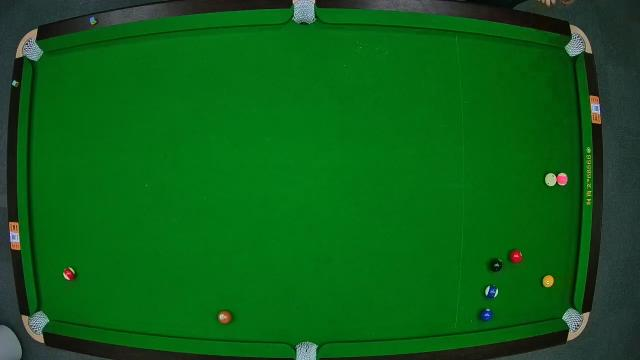bag1: (20, 40, 42, 62)
bag2: (292, 2, 316, 26)
bag3: (566, 36, 586, 58)
bag4: (29, 311, 49, 333)
bag5: (295, 340, 319, 360)
bag6: (562, 308, 582, 330)
ball0: (544, 174, 558, 187)
ball1: (540, 272, 556, 288)
ball10: (484, 284, 500, 300)
ball11: (62, 266, 76, 282)
ball12: (556, 172, 568, 186)
ball2: (480, 308, 494, 322)
ball3: (509, 250, 523, 264)
ball7: (217, 309, 233, 325)
ball8: (490, 258, 502, 272)
